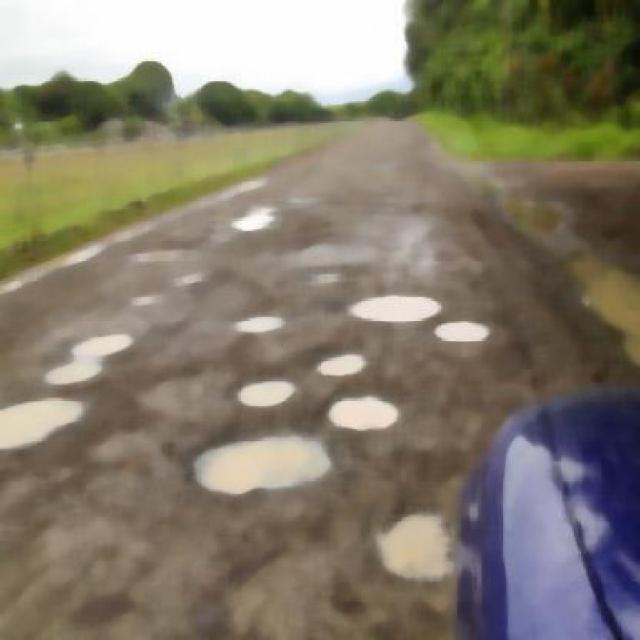Pothole: (312, 257, 496, 355), (189, 419, 337, 501), (46, 303, 123, 405), (372, 490, 457, 582), (0, 386, 75, 473), (128, 237, 201, 288), (242, 366, 307, 420), (328, 388, 402, 434), (320, 360, 380, 382)
